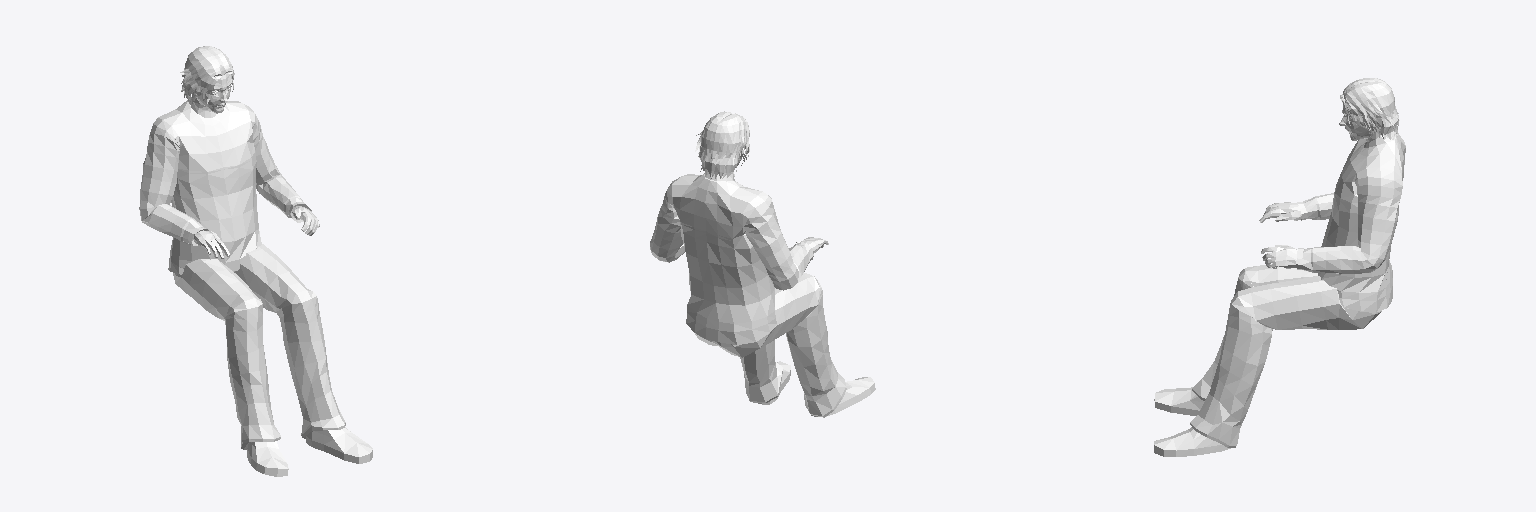
File: sitMale02.obj
3 views of the same model, side by side, from view 1: azimuth 30°, elevation 25°; view 2: azimuth 150°, elevation 25°; view 3: azimuth 270°, elevation 25° (orthographic).
Visible parts, largest first — view 1: Object01_2576_4, Object01_770_3, Object01_1; view 2: Object01_2576_4, Object01_770_3; view 3: Object01_2576_4, Object01_770_3, Object01_1.
Boxes of the visible parts, <box> form: Object01_2576_4: <box>139,99,372,476</box>; Object01_770_3: <box>180,46,234,103</box>; Object01_1: <box>189,74,232,117</box>; Object01_2576_4: <box>650,174,875,417</box>; Object01_770_3: <box>695,111,749,178</box>; Object01_2576_4: <box>1154,132,1405,456</box>; Object01_770_3: <box>1340,78,1399,139</box>; Object01_1: <box>1339,105,1394,147</box>.
Bounding box in the file's own units: 62.6 × 144 × 95.1.